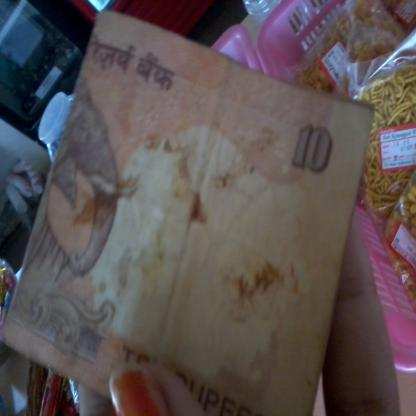Old10Back: (0, 10, 376, 415)
